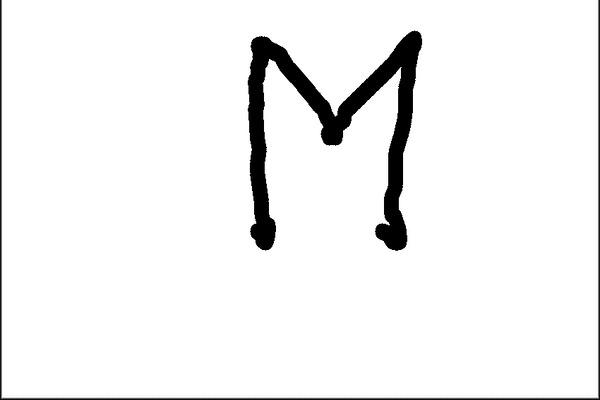M: (238, 34, 421, 254)
